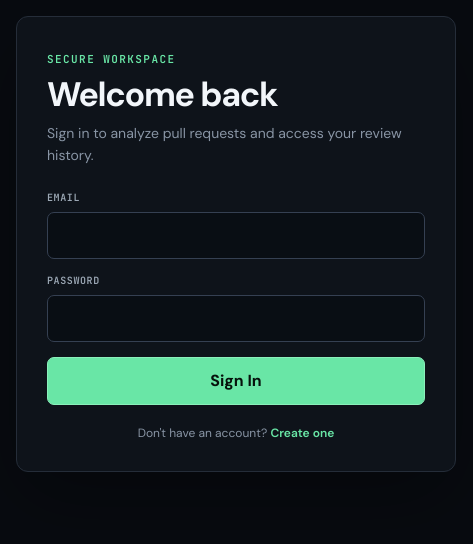
Test: AuthView validation › validates the login form before sending a request
Click the button "Sign In": (236, 381) [47,357,425,405]
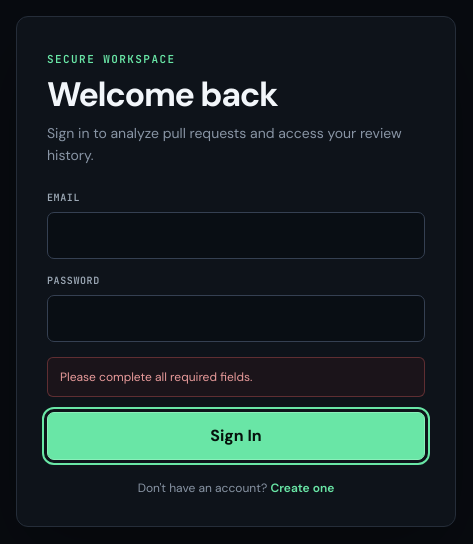
Expected: the message reads "Please complete all required fields.", [60,369,252,385]
